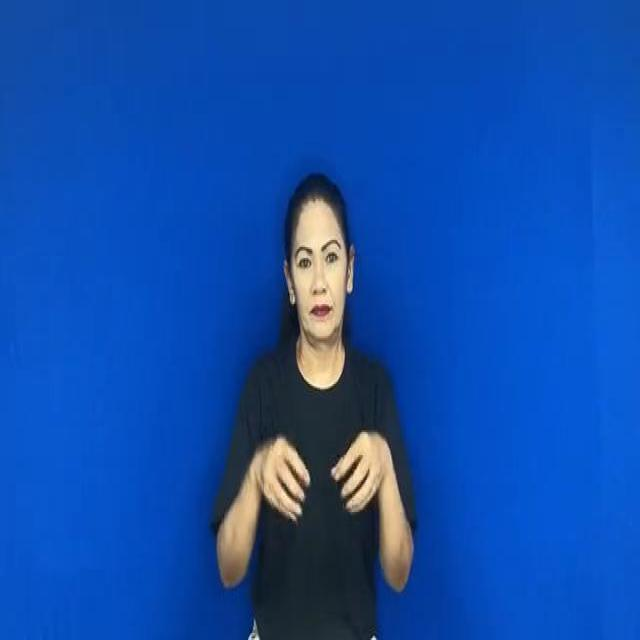egg: (247, 404, 396, 543)
